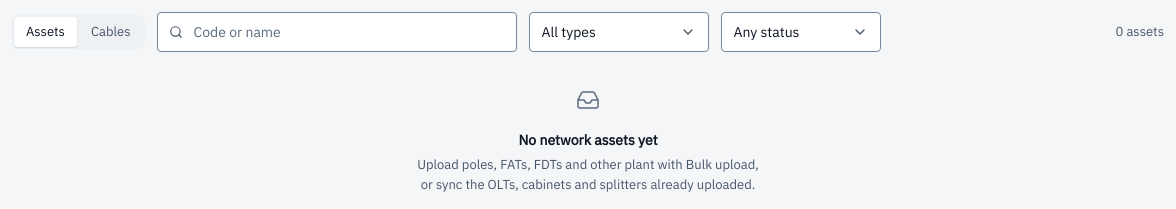
Test: NetworkRegister › switches to cables
Click the radio button labelled "Cables".
click(111, 32)  # box [79,17,143,47]
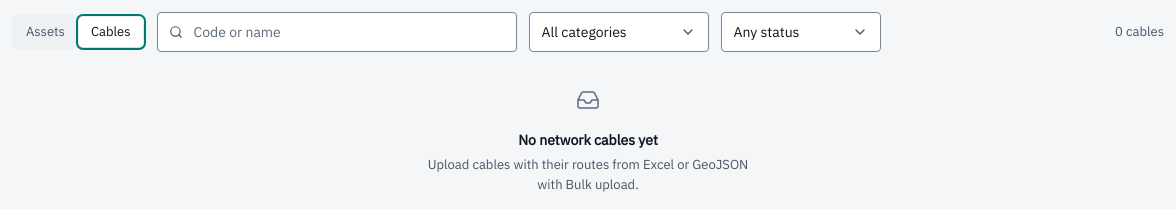
Expected: the text "No network cables yet" is shown, [518,130,658,151]
